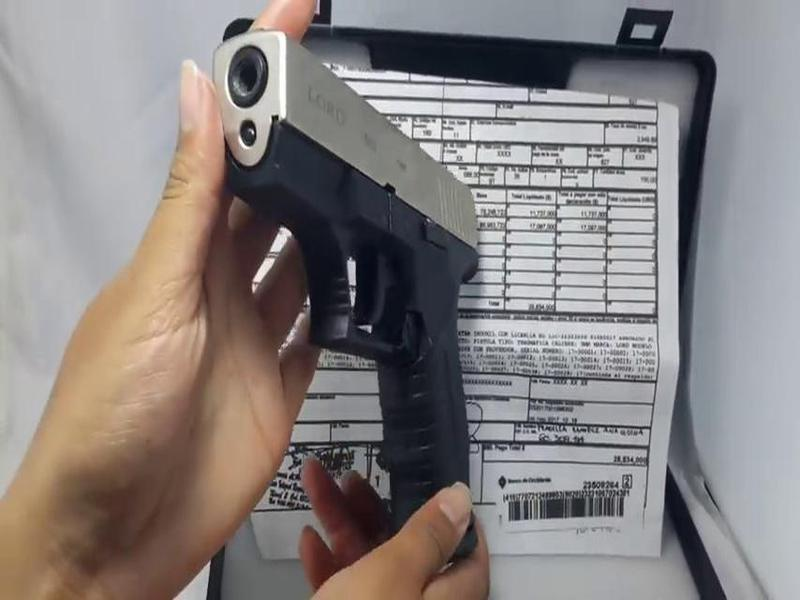Pistola: (208, 16, 487, 566)
